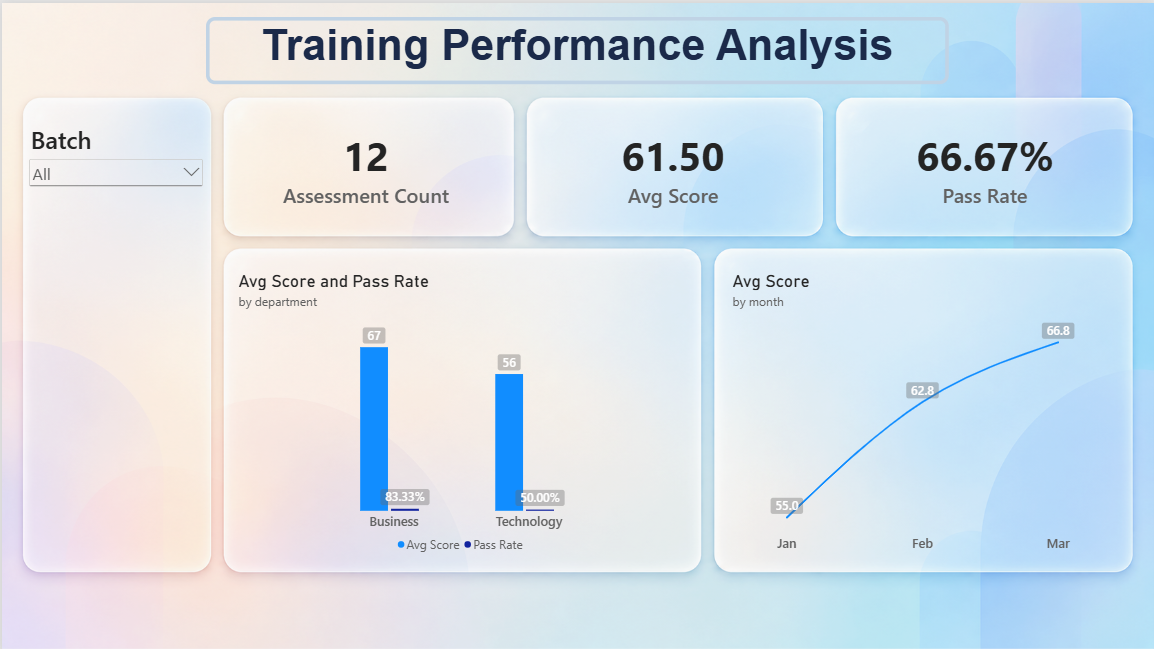

The dashboard page shown, as its layout file describes it:
{"tool":"powerbi","page":{"name":"Page 1","canvas":[1920,1080],"ordinal":0},"visuals":[{"type":"card","fields":{"Values":["measure_.Assessment Count"]},"box":[378.3,173.3,456.7,201.7],"z":0},{"type":"card","fields":{"Values":["measure_.Avg Score"]},"box":[890,173.3,456.7,201.7],"z":1},{"type":"card","fields":{"Values":["measure_.Pass Rate"]},"box":[1410,173.3,456.7,201.7],"z":2},{"type":"clusteredColumnChart","fields":{"Category":["courses.department"],"Y":["measure_.Avg Score","measure_.Pass Rate"]},"box":[378.3,431.7,775,501.7],"z":3},{"type":"lineChart","fields":{"Category":["assessments.month"],"Y":["measure_.Avg Score"]},"box":[1201.7,431.7,665,501.7],"z":4},{"type":"slicer","fields":{"Values":["assessments.batch"]},"box":[40,200,300,150],"z":5},{"type":"textbox","box":[340,23.3,1238.3,111.7],"z":6}]}

Visuals, with their boxes in screenshot pixels (x1, y1, x2, y2), scaled from the page's 1920x1080 canvas onto the 1154x649 screenshot:
card - measure_.Assessment Count: (227, 104, 502, 225)
card - measure_.Avg Score: (535, 104, 809, 225)
card - measure_.Pass Rate: (847, 104, 1122, 225)
clusteredColumnChart - courses.department x measure_.Avg Score: (227, 259, 693, 561)
lineChart - assessments.month x measure_.Avg Score: (722, 259, 1122, 561)
slicer - assessments.batch: (24, 120, 204, 210)
textbox: (204, 14, 949, 81)
